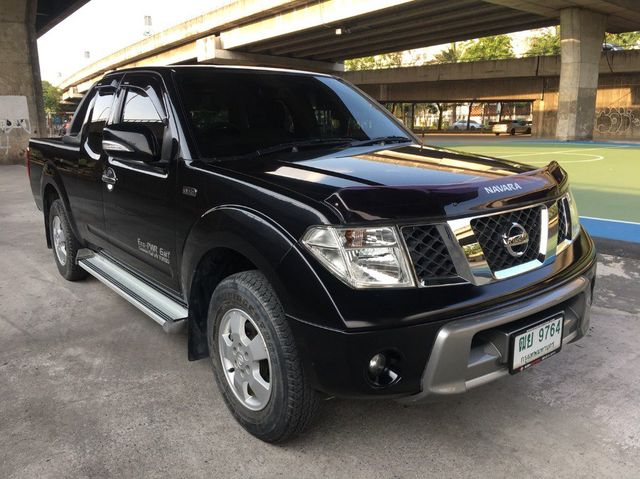pickup: (24, 62, 601, 445)
